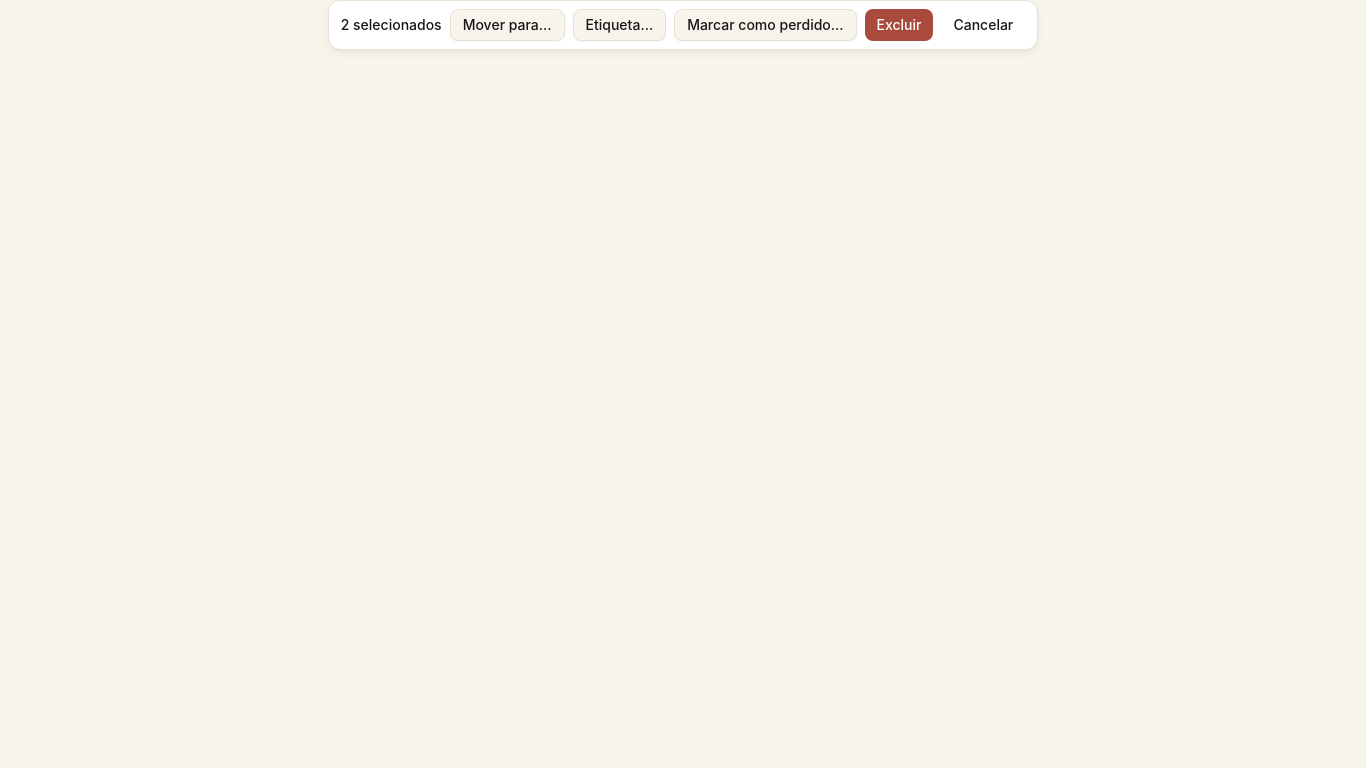
Test case: BulkActionBar: perdido em lote › sem motivo o Confirmar fica barrado e nada é escrito
The width and height of the screenshot is (1366, 768).
What coordinates should you click on to do the following:
click the button "Marcar como perdido…"
I would click on:
 (765, 25)
Its box is [674,9,856,41].
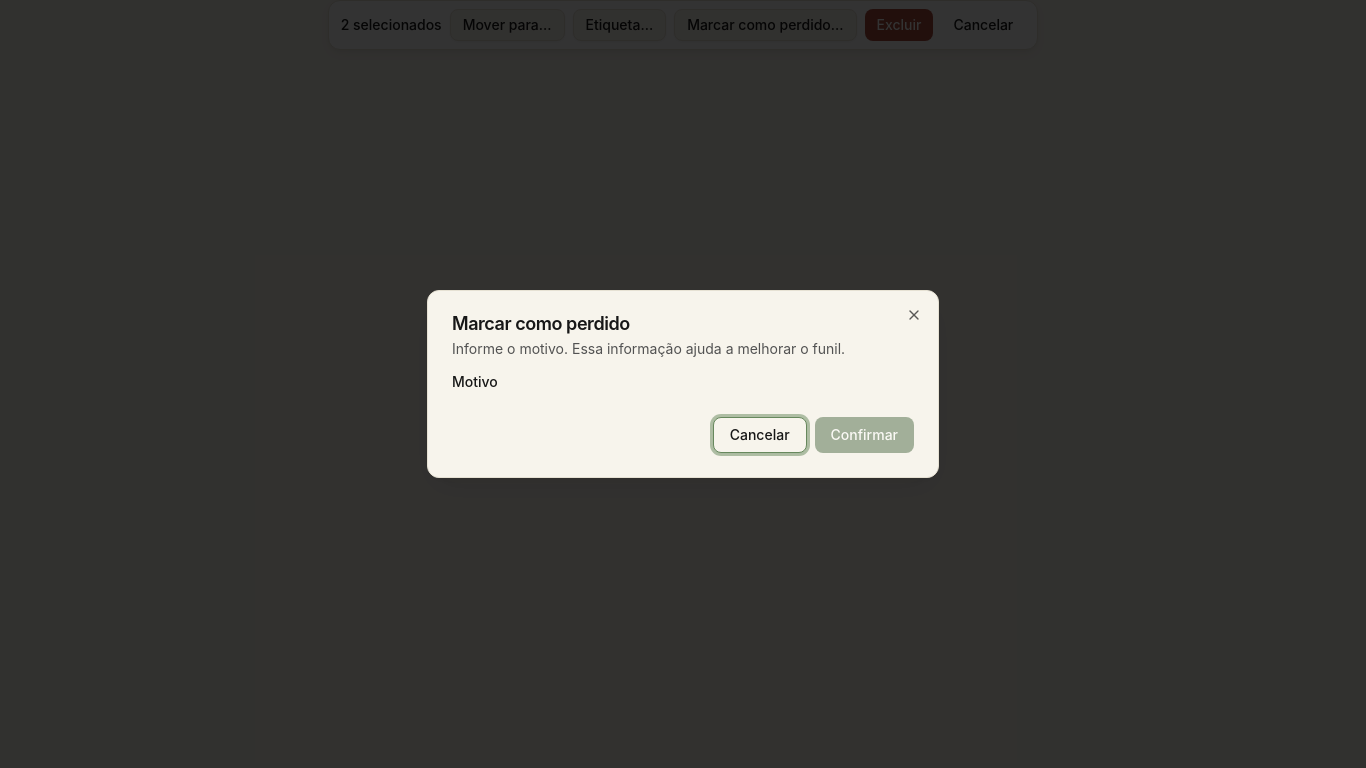
Check: the button "Confirmar" is disabled, box [815,417,914,453]
